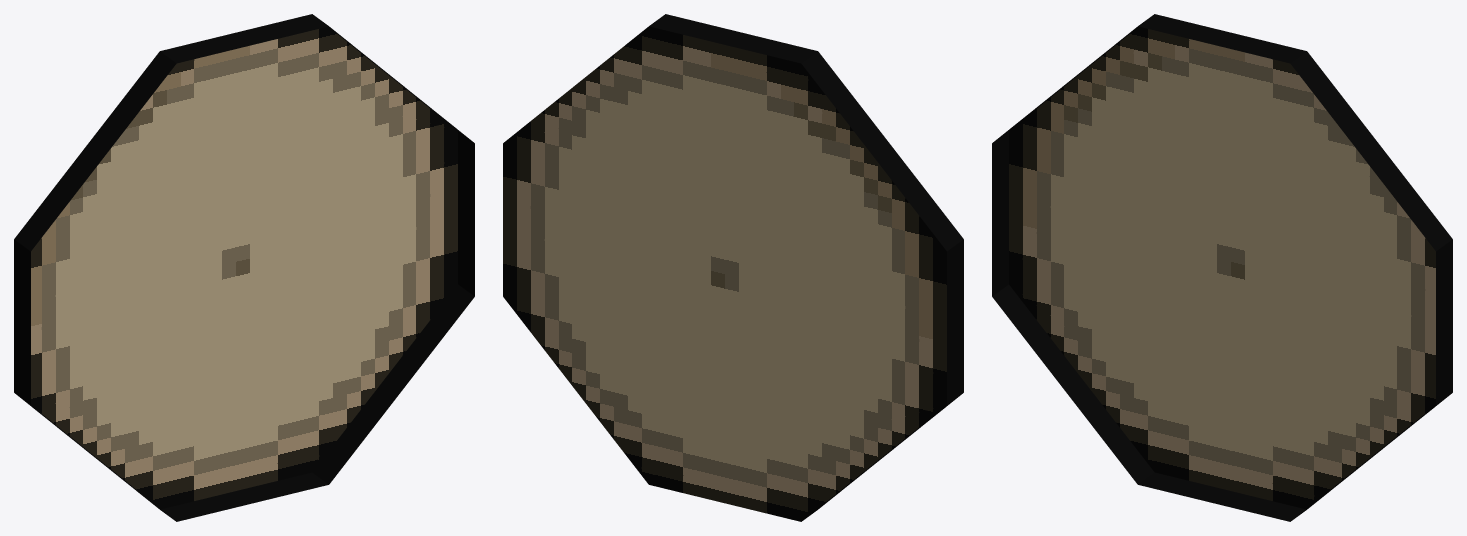
The model's file is Clockwork.glb.
3 renders of one model, left to right at view 1: azimuth 30°, elevation 25°; view 2: azimuth 150°, elevation 25°; view 3: azimuth 330°, elevation 25°, orthographic.
Visible parts, largest first — view 1: ClockRound-col; view 2: ClockRound-col; view 3: ClockRound-col.
Part boxes in pixels (x1=…): ClockRound-col: x1=14, y1=14, x2=474, y2=521; ClockRound-col: x1=503, y1=14, x2=963, y2=521; ClockRound-col: x1=992, y1=14, x2=1452, y2=521.
Size of the model in its own units: 0.765 by 0.7547 by 0.0503.
1 material, 1 textured.
